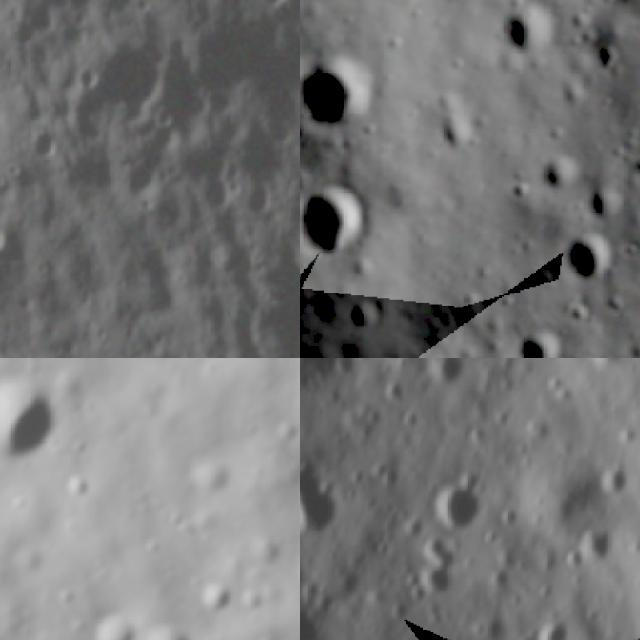crater: (58, 33, 172, 153), (400, 526, 484, 614), (420, 461, 507, 545), (300, 172, 373, 269), (300, 48, 383, 132), (0, 364, 63, 465), (300, 450, 360, 549), (491, 0, 556, 66), (558, 226, 623, 286), (185, 445, 236, 508), (574, 519, 630, 573), (539, 149, 588, 200), (578, 179, 630, 227), (594, 448, 640, 502), (418, 358, 478, 398), (19, 115, 62, 169), (341, 294, 392, 338), (509, 321, 569, 358), (192, 574, 234, 624), (88, 603, 144, 640), (585, 34, 630, 79), (529, 606, 585, 640), (300, 591, 332, 640), (136, 617, 204, 640), (486, 560, 524, 598), (496, 499, 533, 536), (242, 184, 277, 222), (582, 358, 640, 379), (300, 405, 316, 466), (0, 209, 15, 263)
